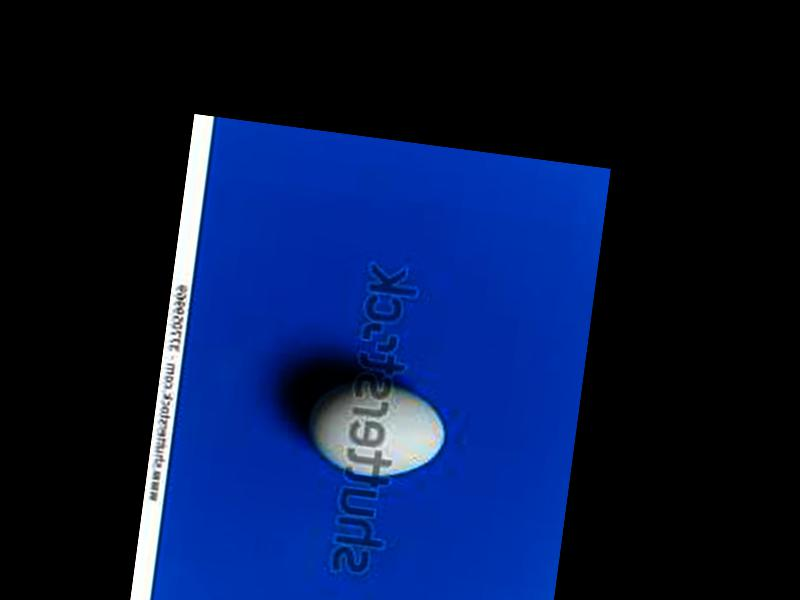Eggs: (303, 374, 454, 483)
